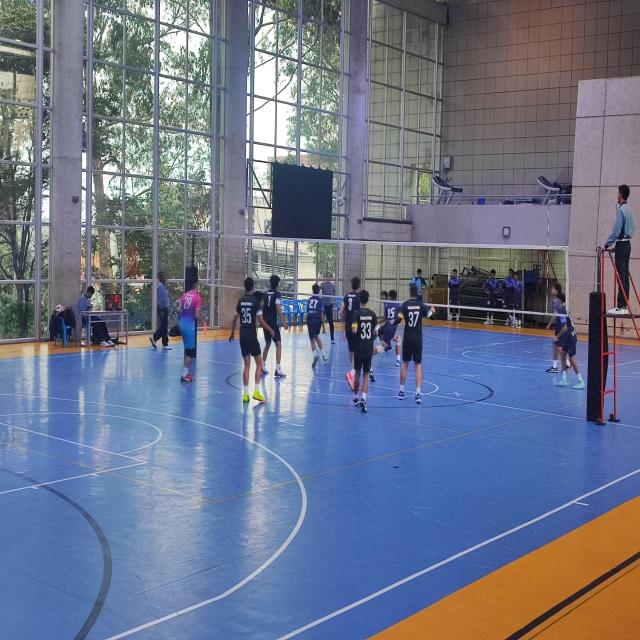volleyball: (55, 304, 64, 314)
